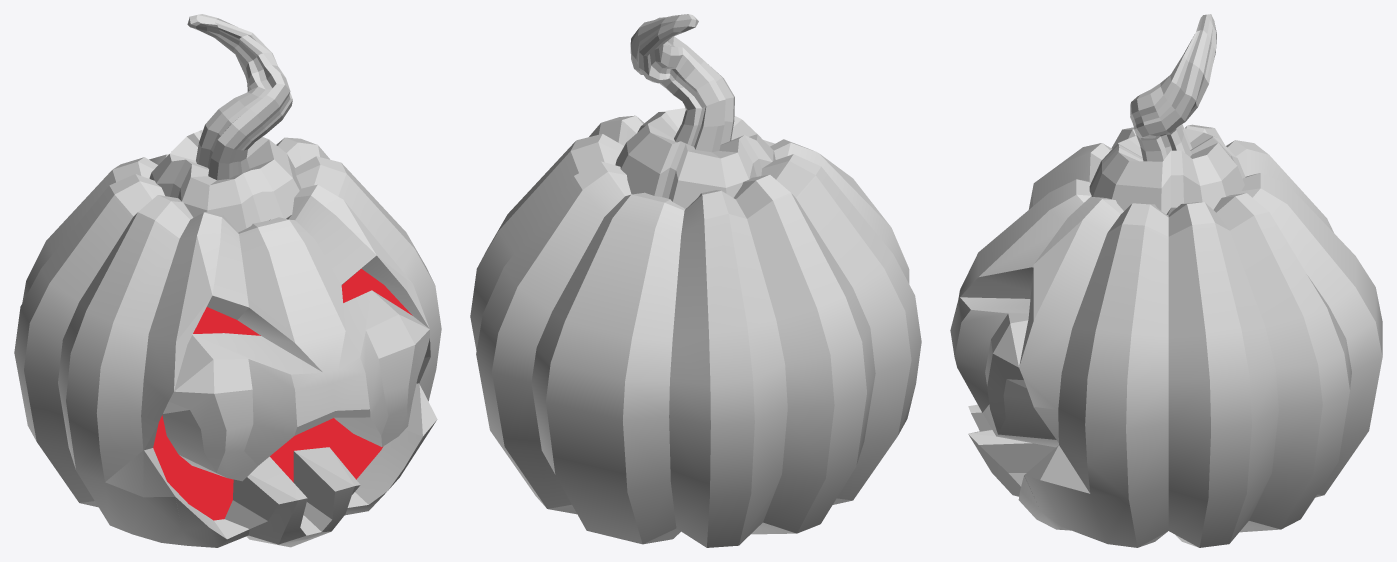
File: EA_Pumpkin_01a.glb
The picture shows the model from 3 angles, left to right: view 1: azimuth 30°, elevation 25°; view 2: azimuth 150°, elevation 25°; view 3: azimuth 270°, elevation 25°; orthographic projection. The views are drawn at different scales.
Visible parts, largest first — view 1: EA_Pumpkin_01a; view 2: EA_Pumpkin_01a; view 3: EA_Pumpkin_01a.
Boxes of the visible parts, x1,y1,x2,y2 form: EA_Pumpkin_01a: (14,14,441,547); EA_Pumpkin_01a: (470,14,921,547); EA_Pumpkin_01a: (950,14,1382,547).
Bounding box in the file's own units: 1.87 × 2.37 × 1.88.
